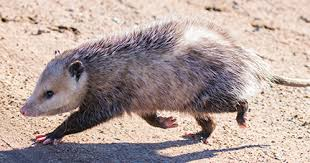opossum: (22, 19, 310, 143)
